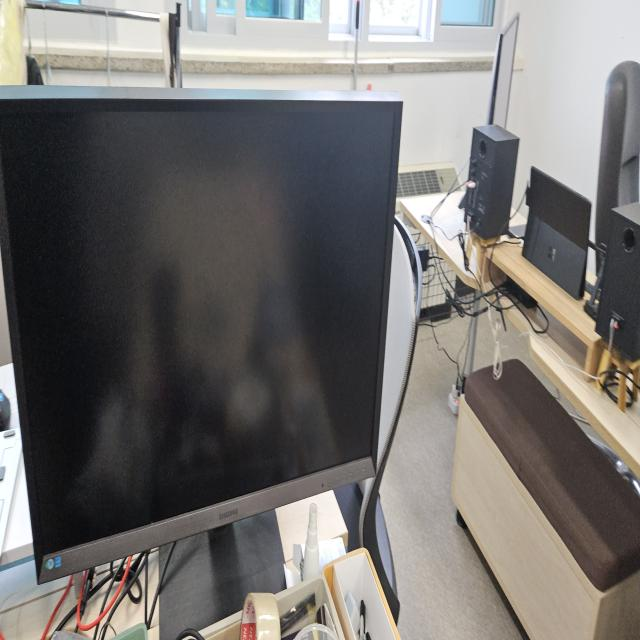Monitor: (2, 82, 404, 584)
